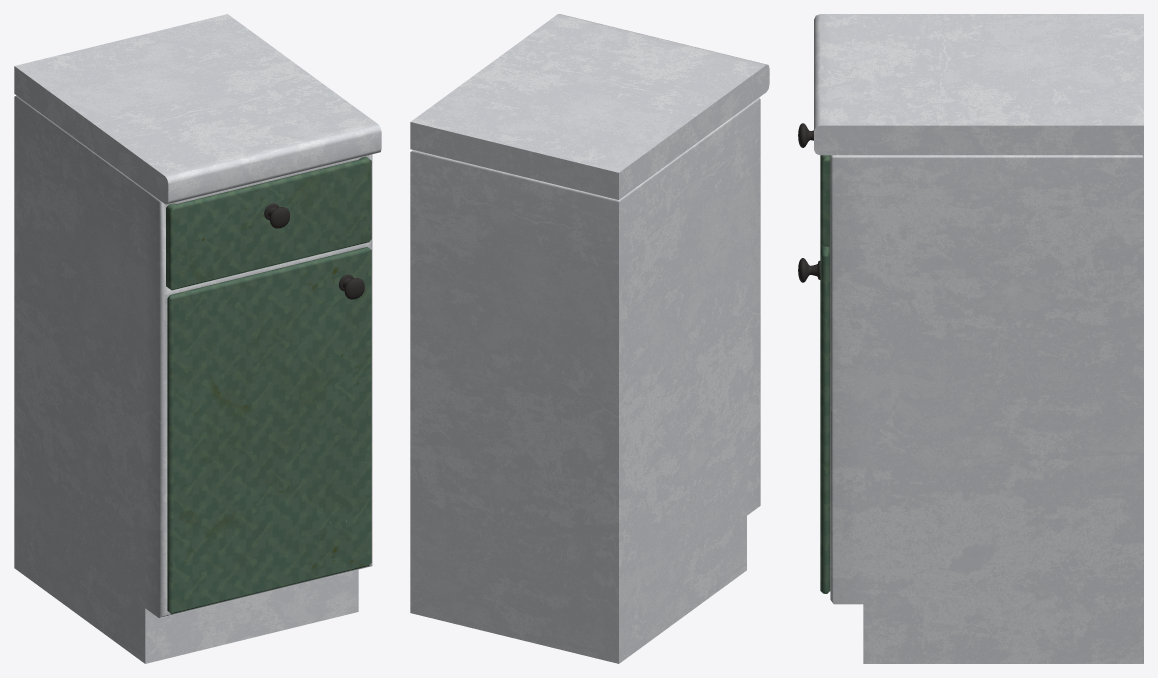
Rendered from Cabinet_A_2.fbx.
3 views of the same model, side by side, from view 1: azimuth 30°, elevation 25°; view 2: azimuth 150°, elevation 25°; view 3: azimuth 270°, elevation 25° (orthographic). The views are drawn at different scales.
Visible parts, largest first — view 1: Cabinet_A_2; view 2: Cabinet_A_2; view 3: Cabinet_A_2.
Part boxes in pixels (left/top/right/bottom): Cabinet_A_2: left=14, top=14, right=381, bottom=663; Cabinet_A_2: left=410, top=14, right=769, bottom=663; Cabinet_A_2: left=798, top=14, right=1143, bottom=663.
Bounding box in the file's own units: 40 × 90 × 52.39.
